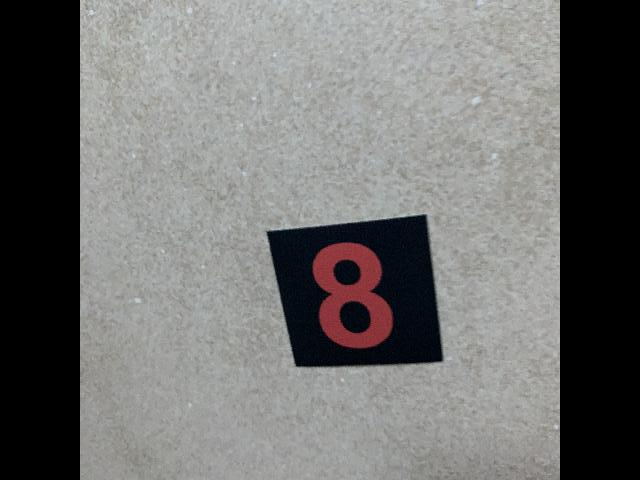eight: (264, 212, 445, 370)
